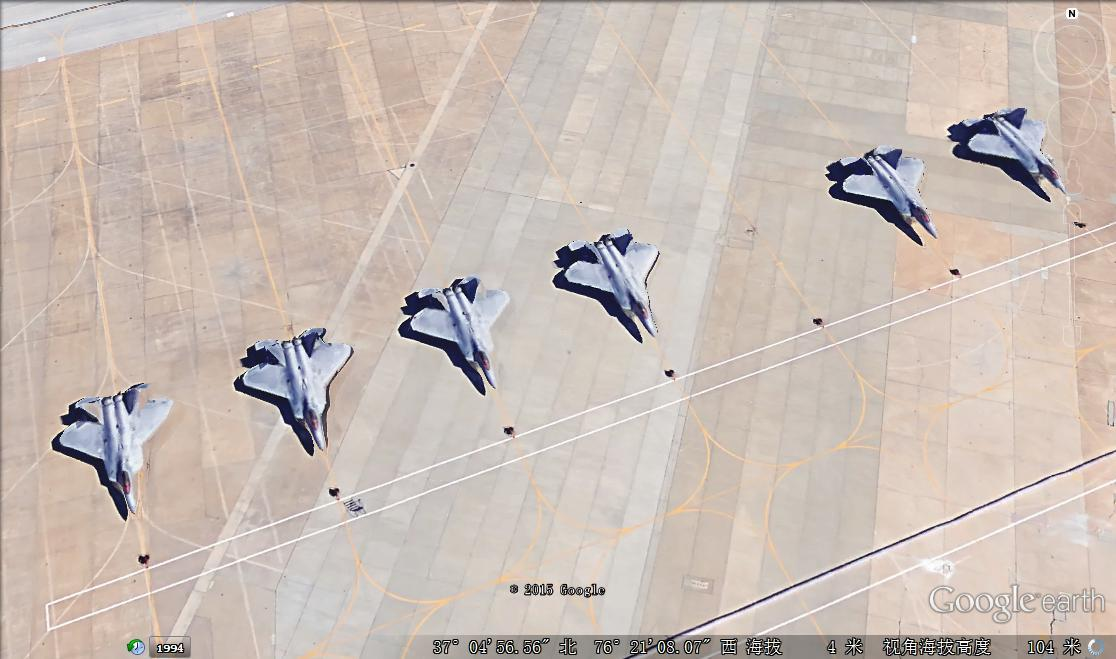F-22: (48, 380, 178, 518), (237, 322, 354, 458), (400, 275, 514, 394), (553, 226, 666, 341), (826, 138, 937, 242), (958, 103, 1070, 205)
